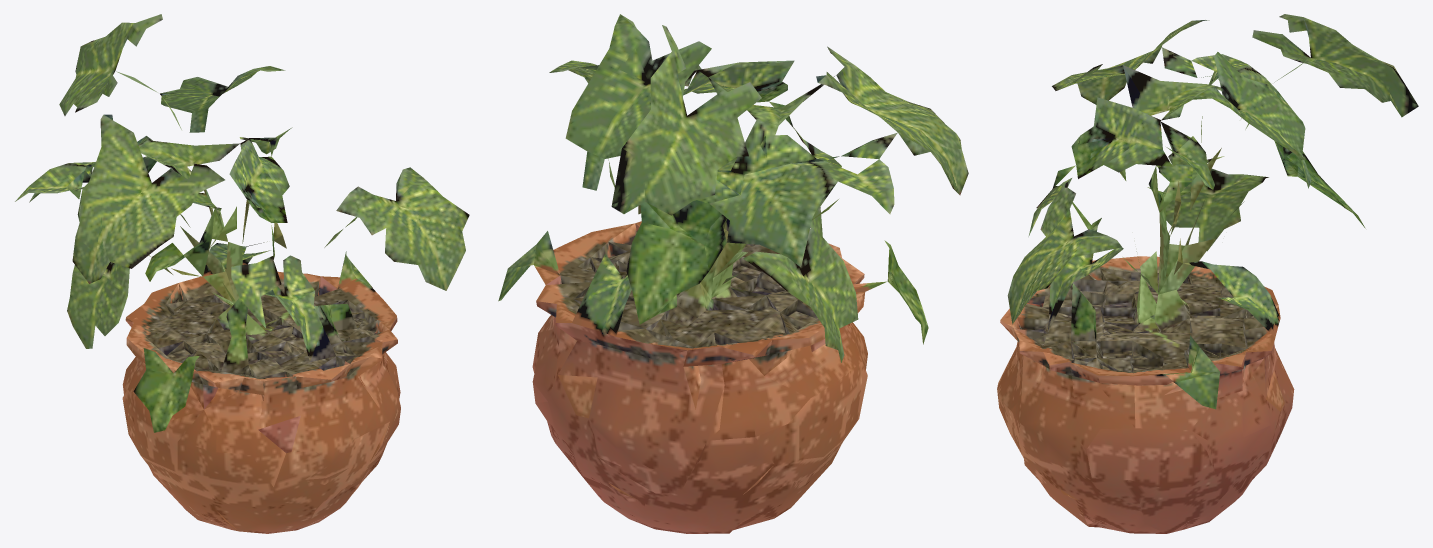
The model's file is potted_plant_02.glb.
3 views of the same model, side by side, from view 1: azimuth 30°, elevation 25°; view 2: azimuth 150°, elevation 25°; view 3: azimuth 270°, elevation 25° (orthographic). The views are drawn at different scales.
Parts seen in each view (by area): view 1: mesh; view 2: mesh; view 3: mesh.
Boxes of the visible parts, box(x1,y1,x2,y2) form: mesh: box(15, 14, 469, 533); mesh: box(498, 14, 968, 533); mesh: box(997, 14, 1418, 533).
Size of the model in its own units: 0.7112 by 0.8412 by 0.6805.
Materials: 1 (1 with a texture image).
